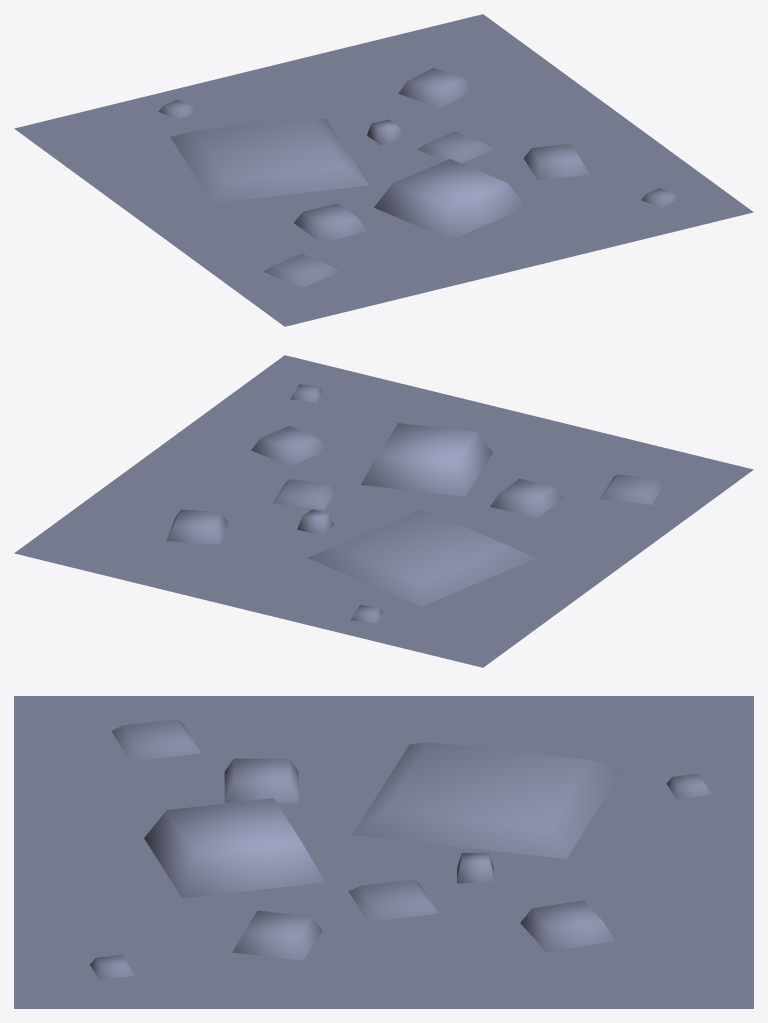
File: floor-detail.001_lev5.glb
The picture shows the model from 3 angles, top to bottom: view 1: azimuth 30°, elevation 25°; view 2: azimuth 150°, elevation 25°; view 3: azimuth 270°, elevation 25°; orthographic projection. The views are drawn at different scales.
Visible parts, largest first — view 1: floor-detail.001_lev5; view 2: floor-detail.001_lev5; view 3: floor-detail.001_lev5.
Boxes of the visible parts, x1,y1,x2,y2 form: floor-detail.001_lev5: (14, 14, 753, 326); floor-detail.001_lev5: (14, 355, 753, 667); floor-detail.001_lev5: (14, 696, 753, 1008).
Bounding box in the file's own units: 4 × 0.2 × 4.
Materials: 1 (1 with a texture image).
